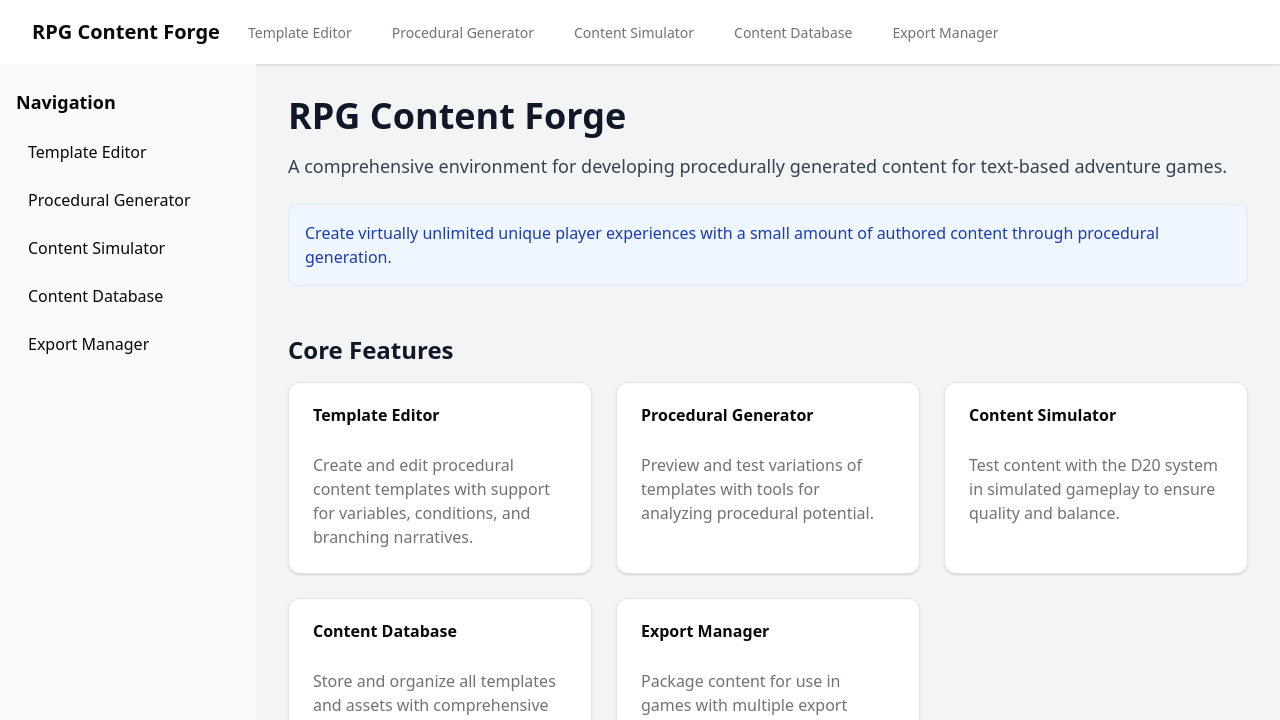
Test: Navigation › shows correct sidebar navigation based on current section
# Navigate to Template Editor
Click the 1st link "Template Editor" at x=300, y=33, box [248,23,352,42]
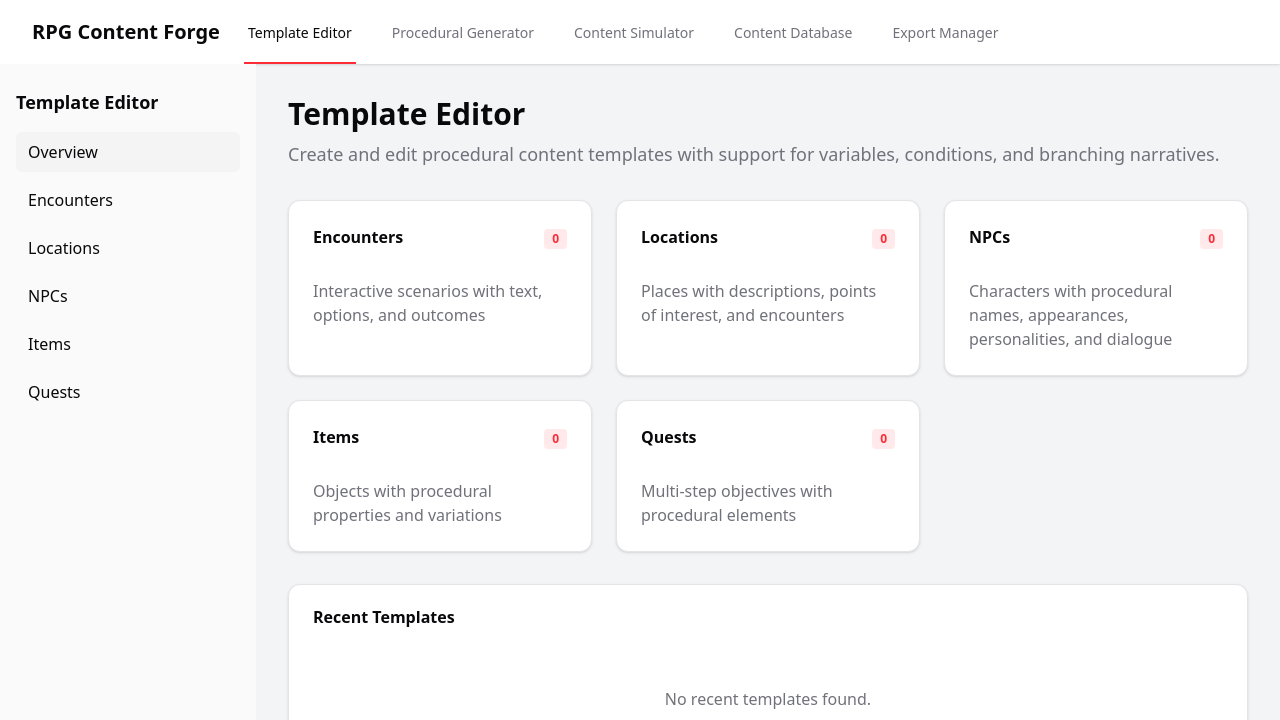
Now the 1st heading "Template Editor" is shown, box [16,90,158,114]
Now the link "Encounters" is shown, box [28,189,113,211]
Now the link "Locations" is shown, box [28,237,100,259]
# Navigate to Content Simulator
Click the link "Content Simulator" at x=634, y=33, box [574,23,694,42]
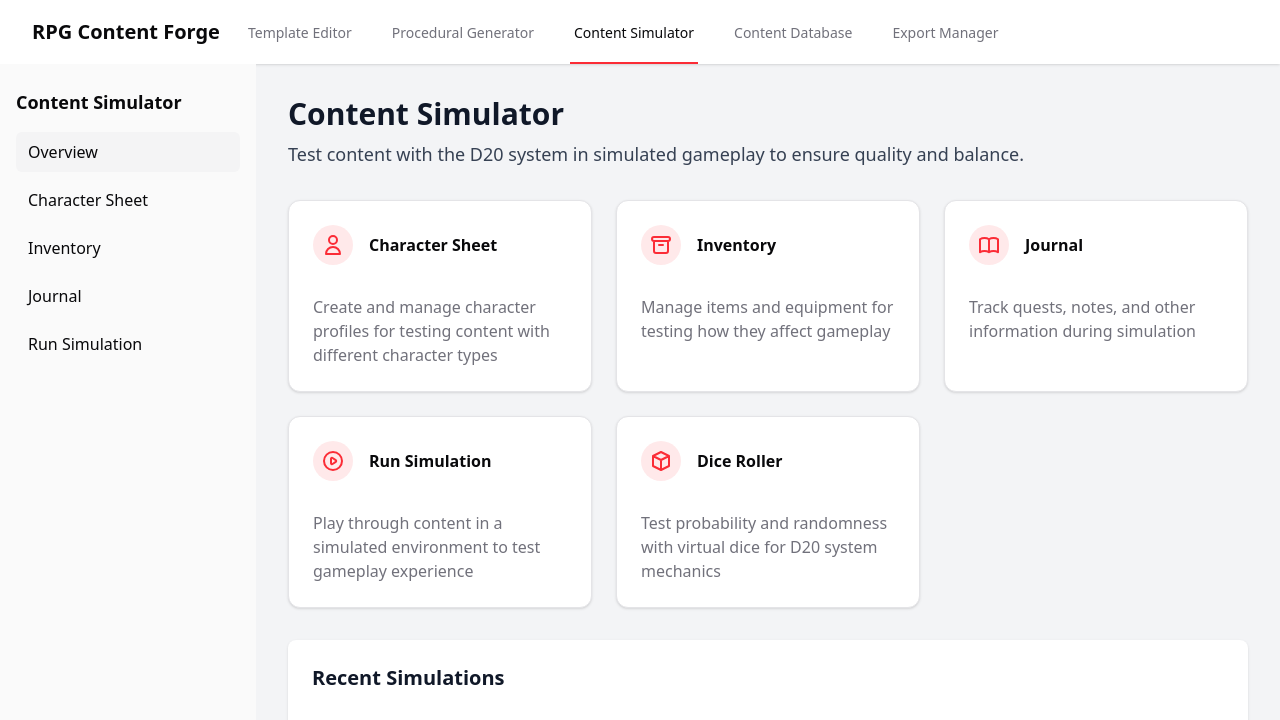
Now the 1st heading "Content Simulator" is shown, box [16,90,182,114]
Now the link "Character Sheet" is shown, box [28,189,148,211]
Now the link "Inventory" is shown, box [28,237,101,259]
# Navigate to Procedural Generator
Click the link "Procedural Generator" at x=463, y=33, box [392,23,534,42]
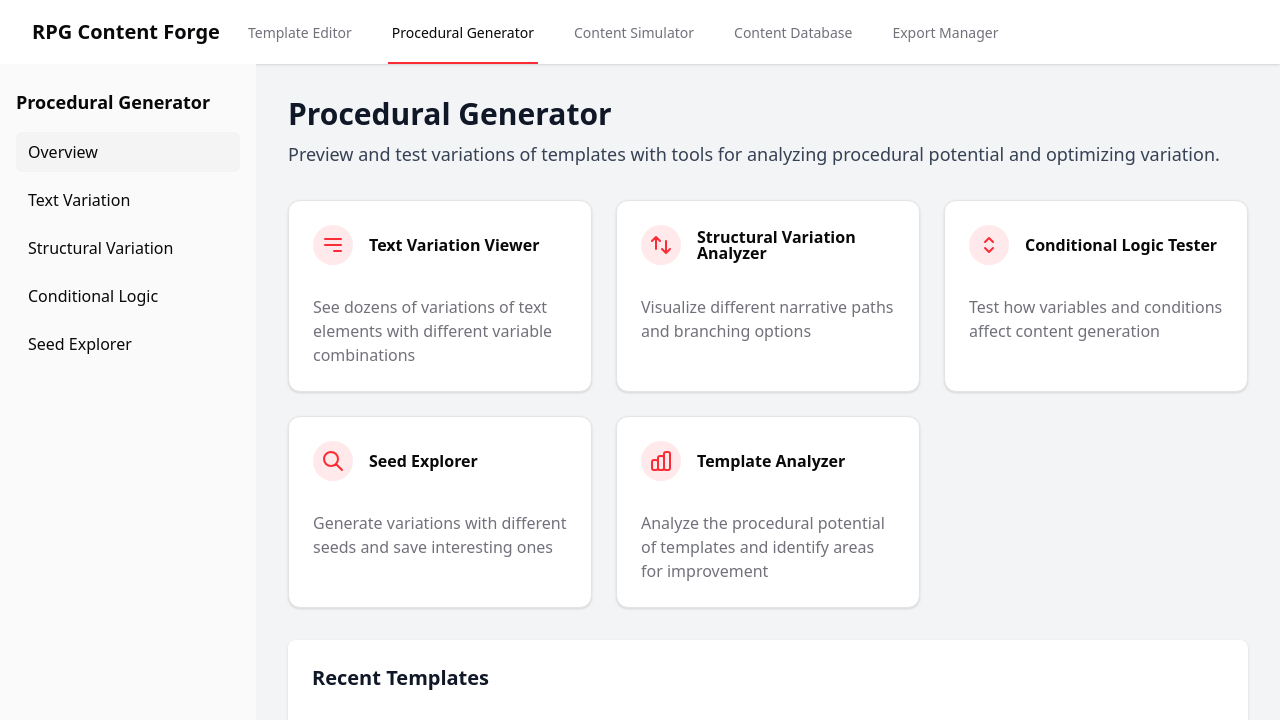
Now the 1st heading "Procedural Generator" is shown, box [16,88,240,116]
Now the link "Text Variation" is shown, box [28,189,130,211]
Now the link "Structural Variation" is shown, box [28,237,173,259]
